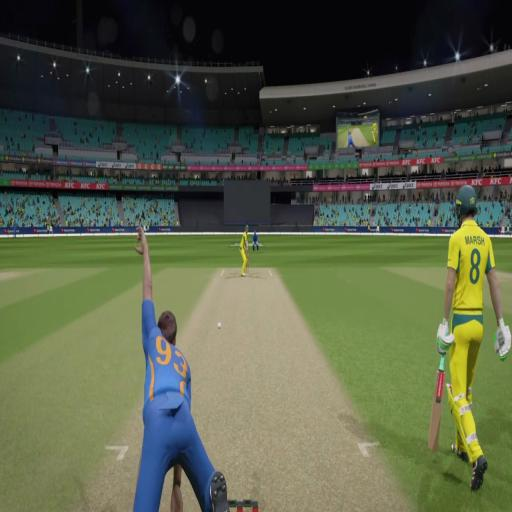ball: (213, 315, 224, 334)
